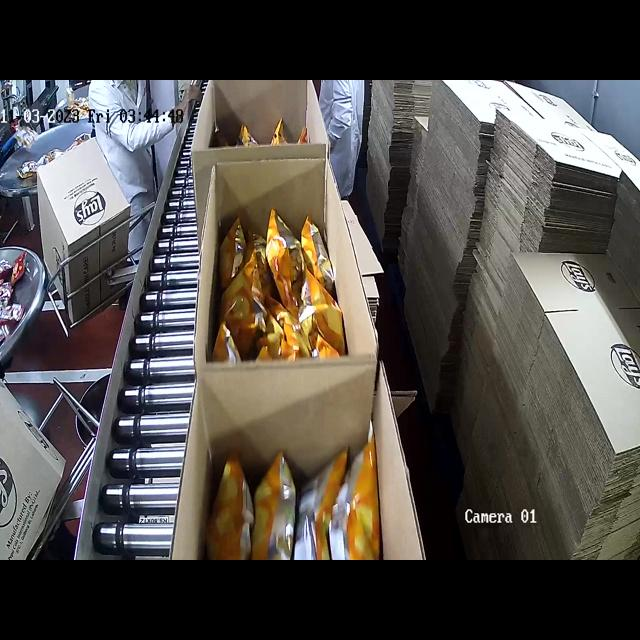cheese: (210, 439, 391, 560), (227, 229, 335, 366), (214, 119, 314, 144)
